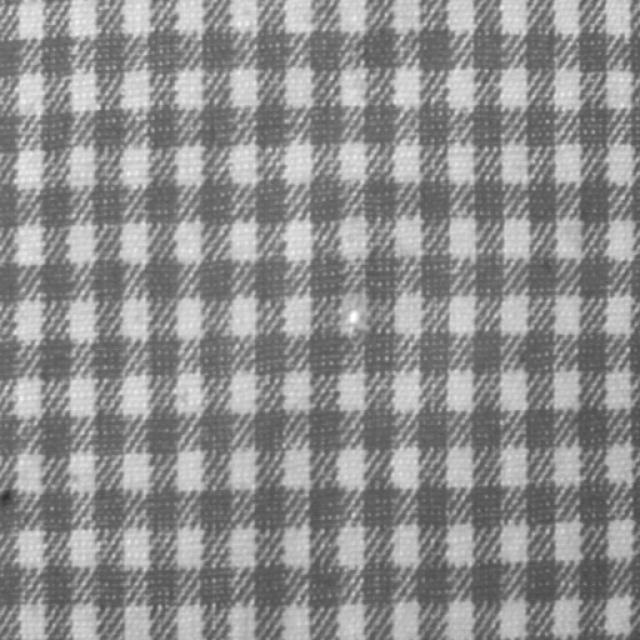Hole-Defect: (342, 309, 366, 331)
